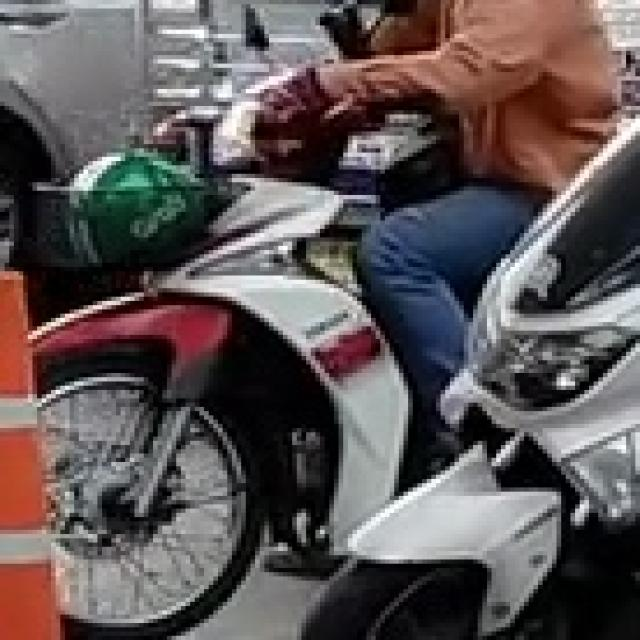door: (0, 263, 65, 636)
helmet: (60, 144, 214, 267)
